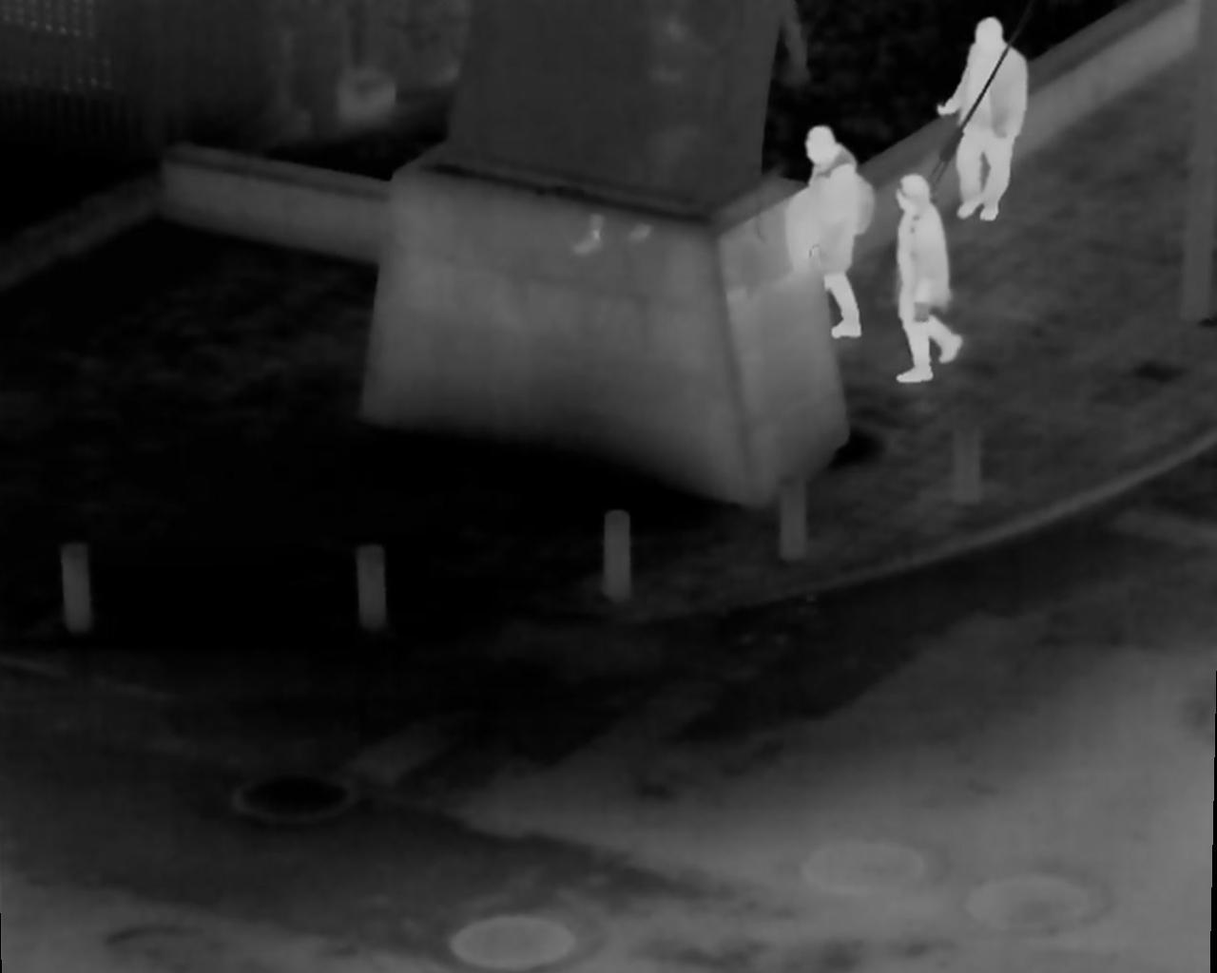person: (806, 118, 878, 334), (892, 173, 965, 385), (951, 17, 1030, 209)
